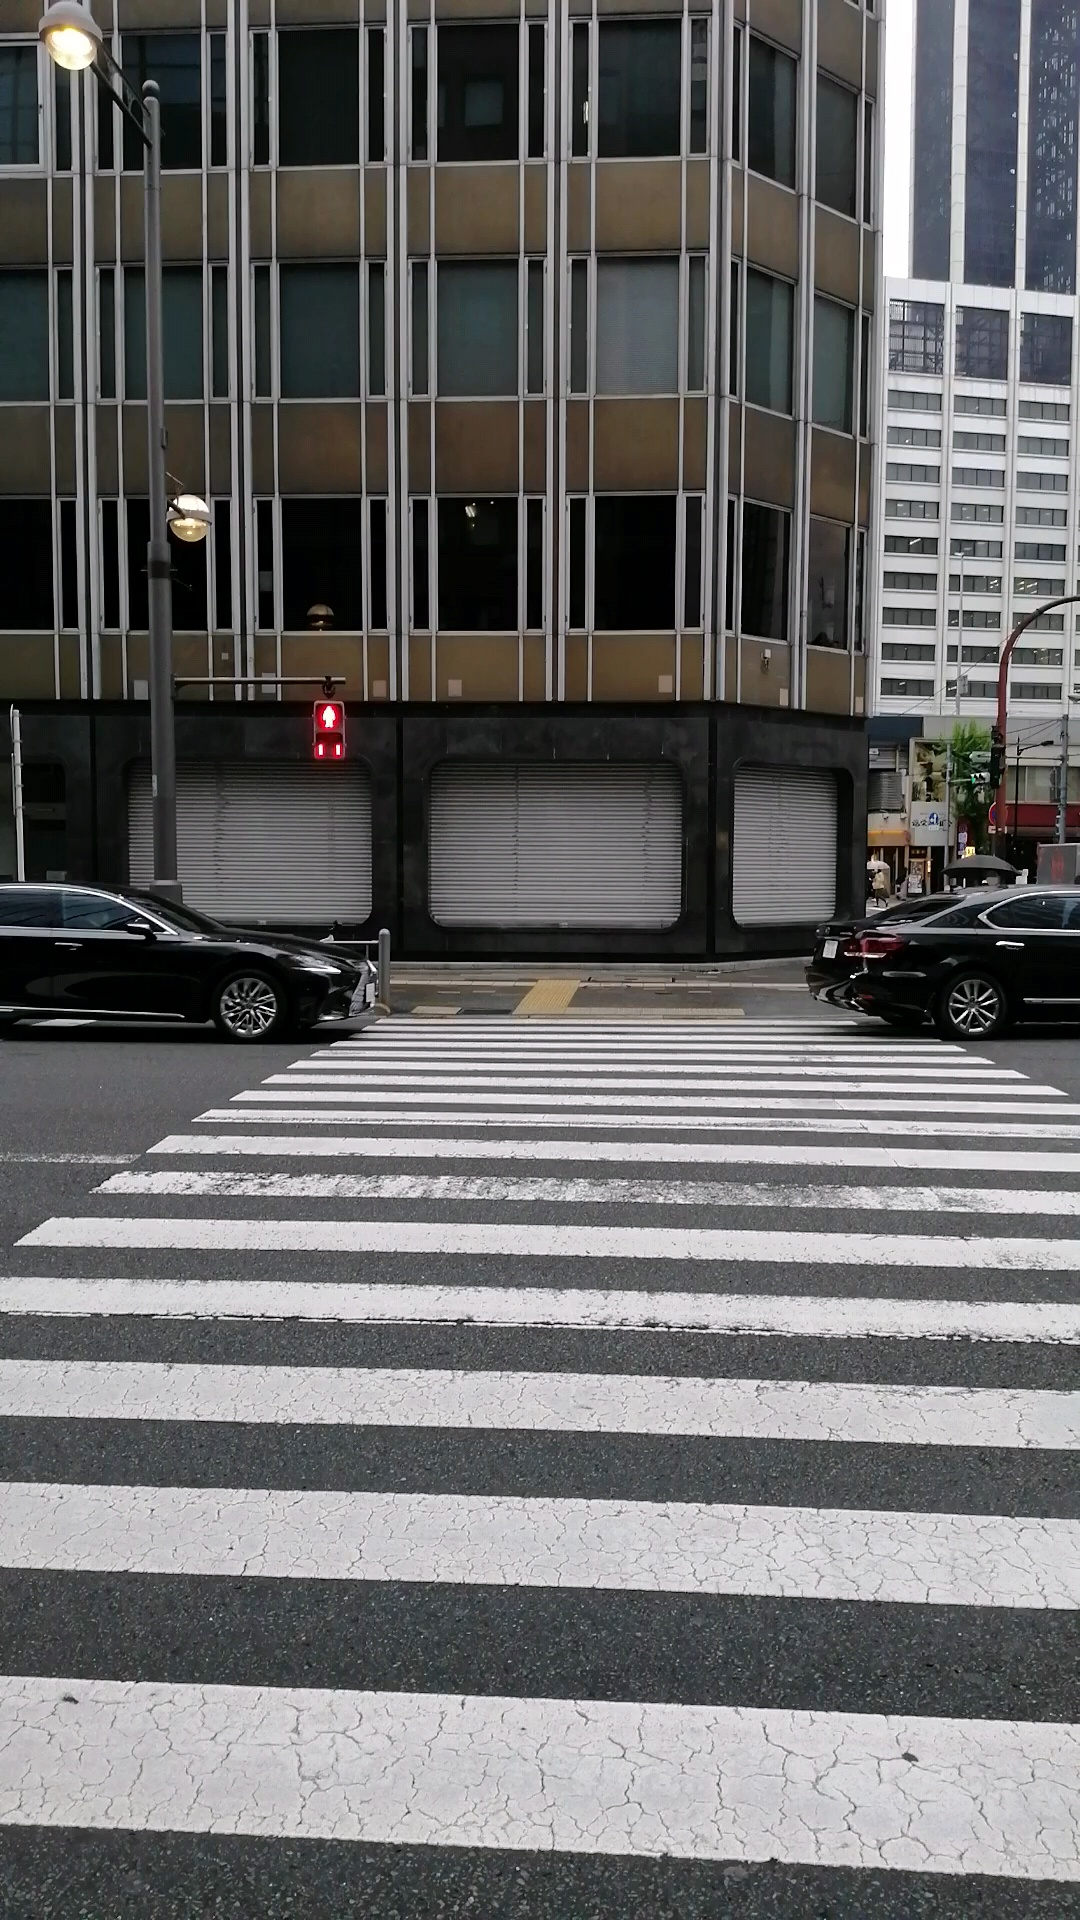red: (313, 702, 345, 762)
